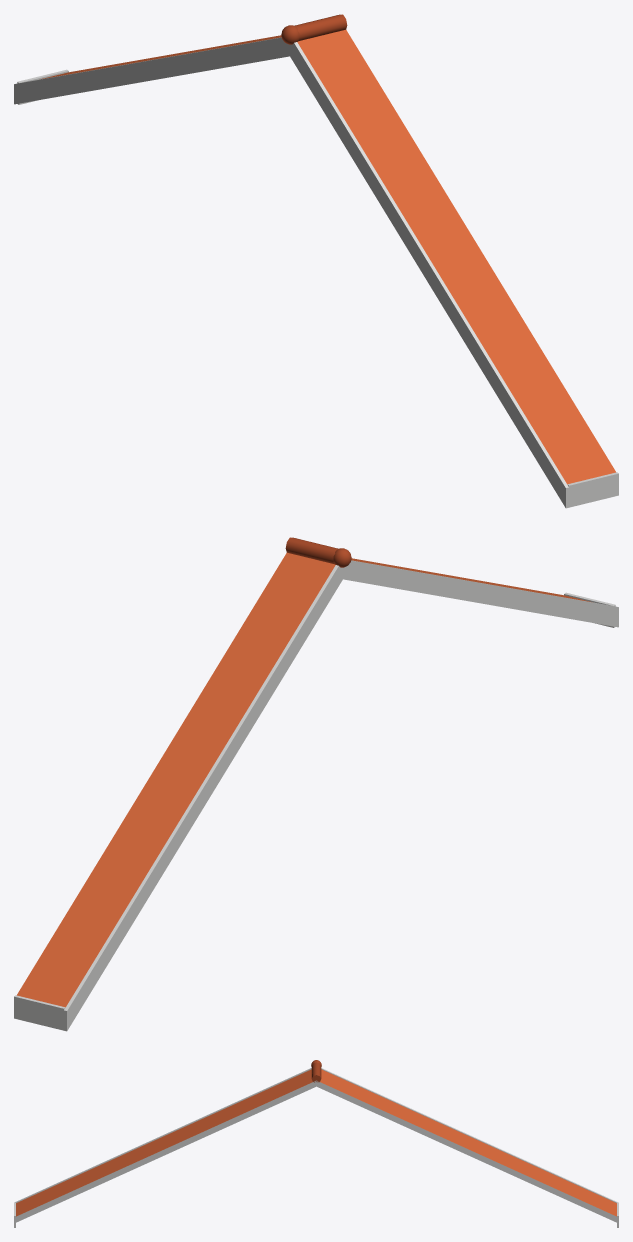
Rendered from telhado_empena_v8_i50.glb.
The picture shows the model from 3 angles, top to bottom: view 1: azimuth 30°, elevation 25°; view 2: azimuth 150°, elevation 25°; view 3: azimuth 270°, elevation 25°; orthographic projection. The views are drawn at different scales.
Parts seen in each view (by area): view 1: telhado_empena_v8_i50; view 2: telhado_empena_v8_i50; view 3: telhado_empena_v8_i50.
Part boxes in pixels (bbox=[...]): telhado_empena_v8_i50: bbox=[14, 14, 618, 508]; telhado_empena_v8_i50: bbox=[14, 537, 618, 1031]; telhado_empena_v8_i50: bbox=[14, 1060, 618, 1227].
Bounding box in the file's own units: 0.57 × 2.52 × 9.
